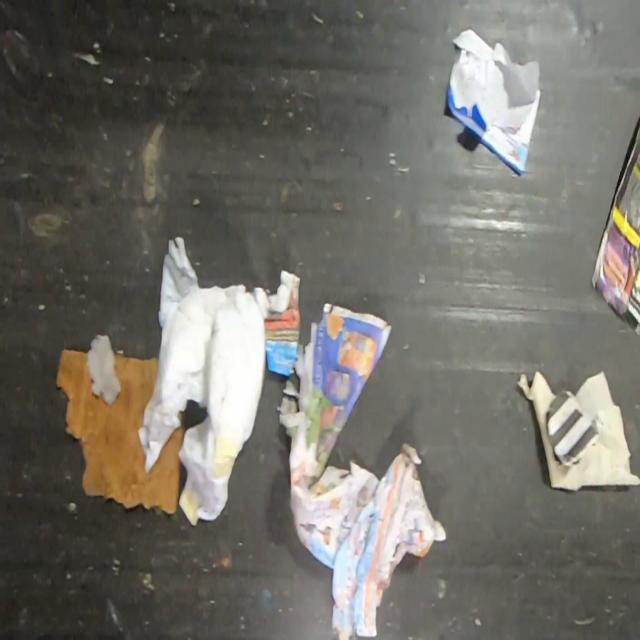cardboard: (54, 348, 185, 514)
